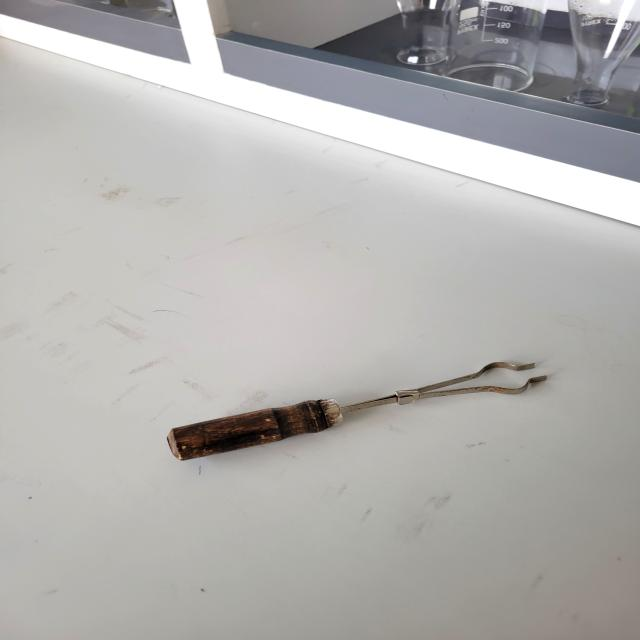TestTube_Holder: (148, 350, 555, 476)
